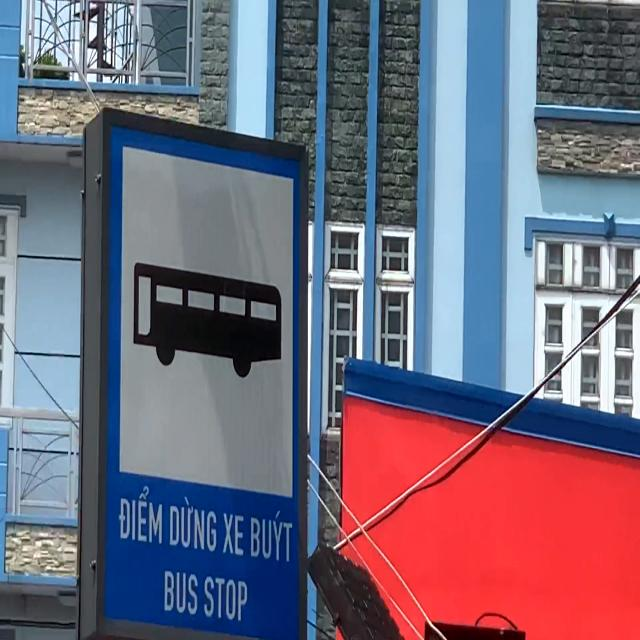R.434: (104, 119, 306, 640)
